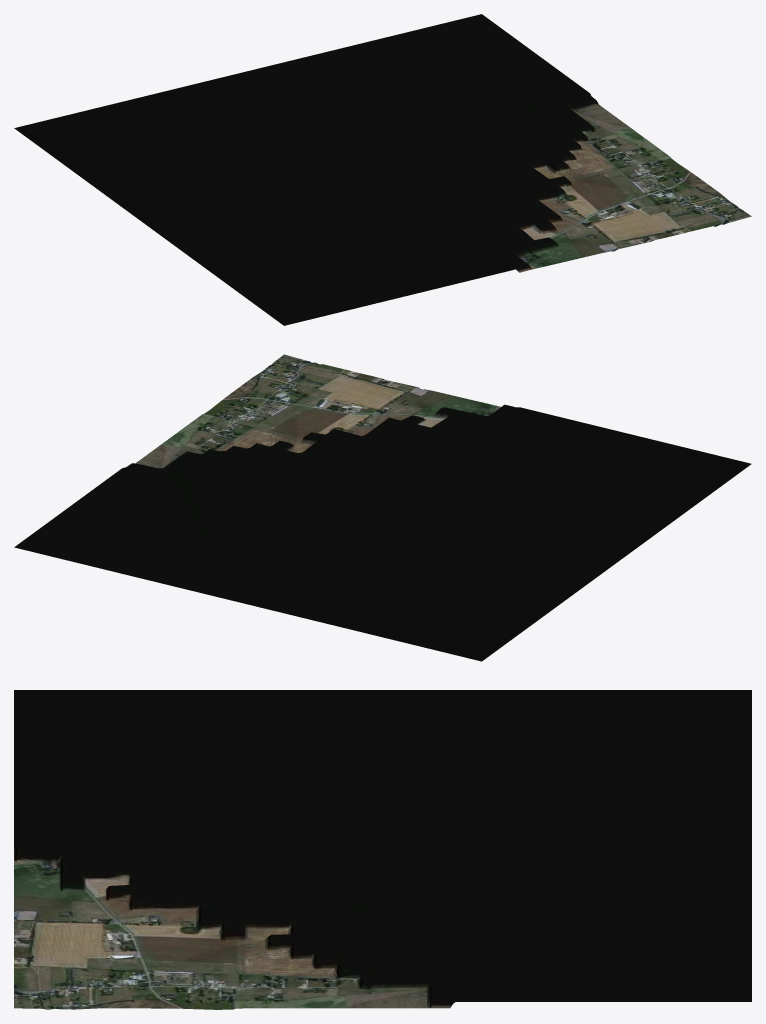
The model's file is map_10_251_432.dae.
3 renders of one model, top to bottom at view 1: azimuth 30°, elevation 25°; view 2: azimuth 150°, elevation 25°; view 3: azimuth 270°, elevation 25°, orthographic. The views are drawn at different scales.
Visible parts, largest first — view 1: Ter0; view 2: Ter0; view 3: Ter0.
Boxes of the visible parts, <box> form: Ter0: <box>14,14,751,325</box>; Ter0: <box>14,354,751,661</box>; Ter0: <box>14,690,751,1009</box>.
Size of the model in its own units: 2044 by 2044 by 36.
3 materials, 3 textured.
